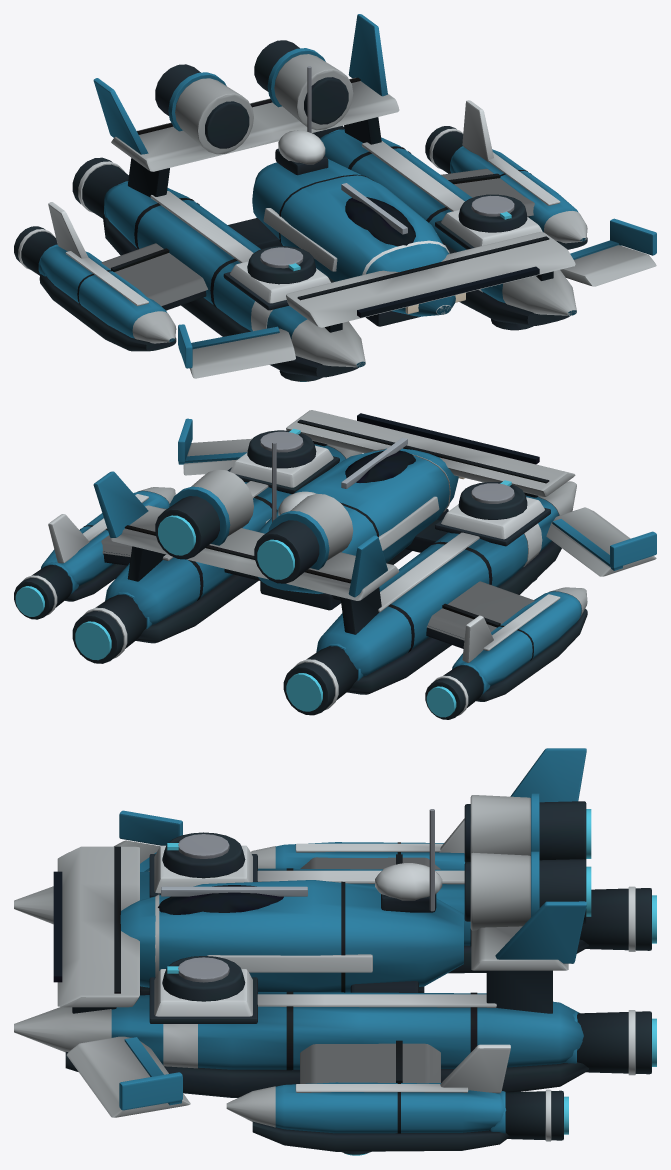
The model's file is ex_skiff_6.glb.
3 views of the same model, one above another, from view 1: azimuth 30°, elevation 25°; view 2: azimuth 150°, elevation 25°; view 3: azimuth 270°, elevation 25° (orthographic). The views are drawn at different scales.
Parts seen in each view (by area): view 1: body; view 2: body; view 3: body.
Part boxes in pixels (x1,y1,x2,y2): body: (14,14,656,381); body: (14,410,656,719); body: (14,748,656,1155).
Size of the model in its own units: 8.09 by 3.15 by 8.
